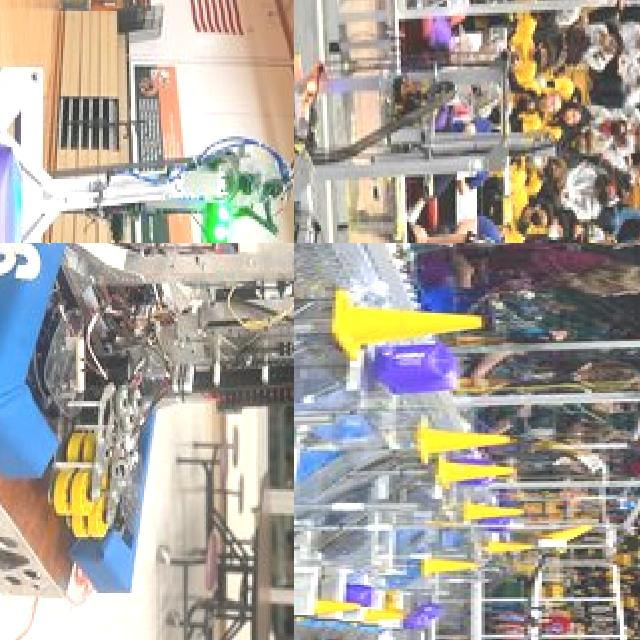FRC-Robots: (0, 243, 294, 640), (0, 0, 294, 243), (294, 12, 565, 243), (294, 514, 594, 640)
